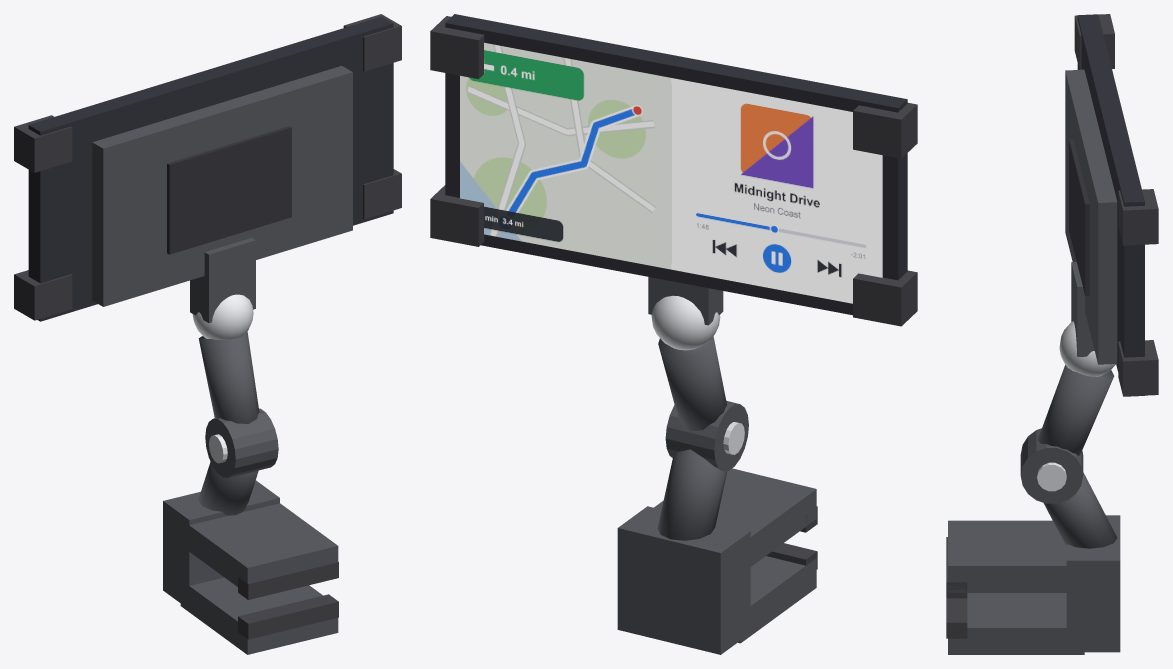
Rendered from phone-mount-DsByaSfn.glb.
The picture shows the model from 3 angles, left to right: view 1: azimuth 30°, elevation 25°; view 2: azimuth 150°, elevation 25°; view 3: azimuth 270°, elevation 25°; orthographic projection. The views are drawn at different scales.
Parts seen in each view (by area): view 1: Cradle, Mount; view 2: Cradle, Mount; view 3: Mount, Cradle.
Part boxes in pixels (x1,y1,x2,y2): Cradle: [14, 14, 401, 339]; Mount: [163, 331, 338, 654]; Cradle: [430, 14, 917, 350]; Mount: [617, 336, 817, 654]; Mount: [946, 365, 1120, 654]; Cradle: [1059, 14, 1158, 396].
Size of the model in its own units: 1.56 by 1.94 by 0.7137.
6 materials, 1 textured.
